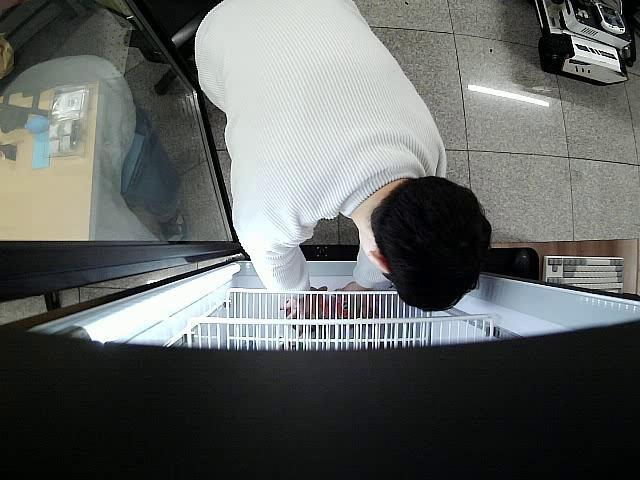01_ShinRamen_L: (286, 296, 329, 330), (335, 294, 373, 319)
